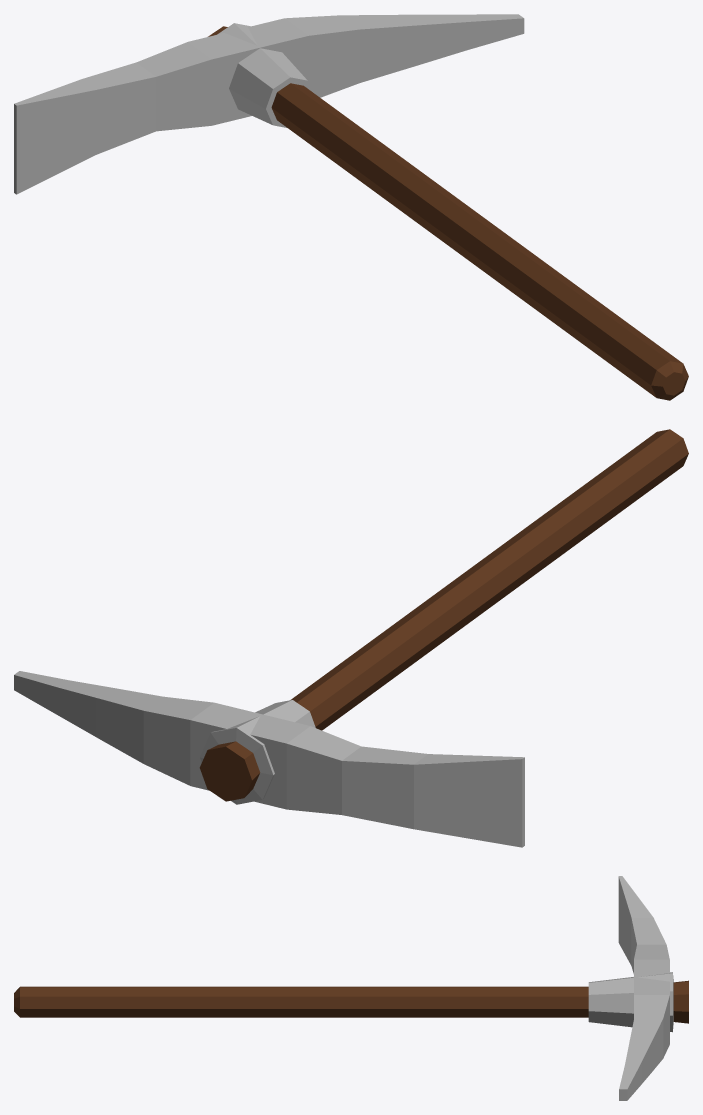
Rendered from Pickaxe.fbx.
The picture shows the model from 3 angles, top to bottom: view 1: azimuth 30°, elevation 25°; view 2: azimuth 150°, elevation 25°; view 3: azimuth 270°, elevation 25°; orthographic projection. The views are drawn at different scales.
Visible parts, largest first — view 1: Pickaxe; view 2: Pickaxe; view 3: Pickaxe.
Part boxes in pixels (bbox=[...]): Pickaxe: bbox=[14, 14, 688, 400]; Pickaxe: bbox=[14, 429, 688, 847]; Pickaxe: bbox=[14, 876, 688, 1100].
Size of the model in its own units: 127 by 21.2 by 194.
